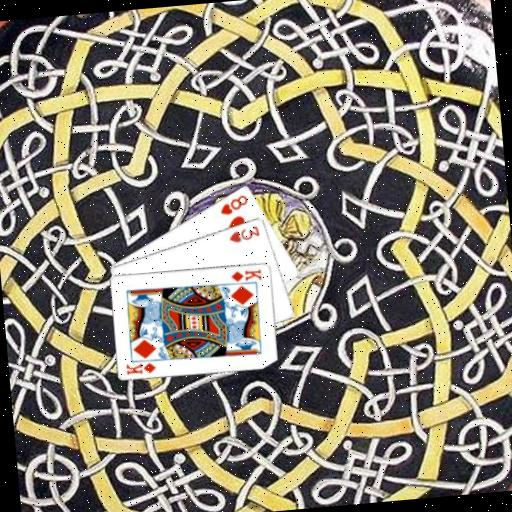3H: (225, 222, 262, 244)
8H: (216, 191, 250, 217)
KD: (227, 266, 263, 284), (123, 359, 158, 377)
